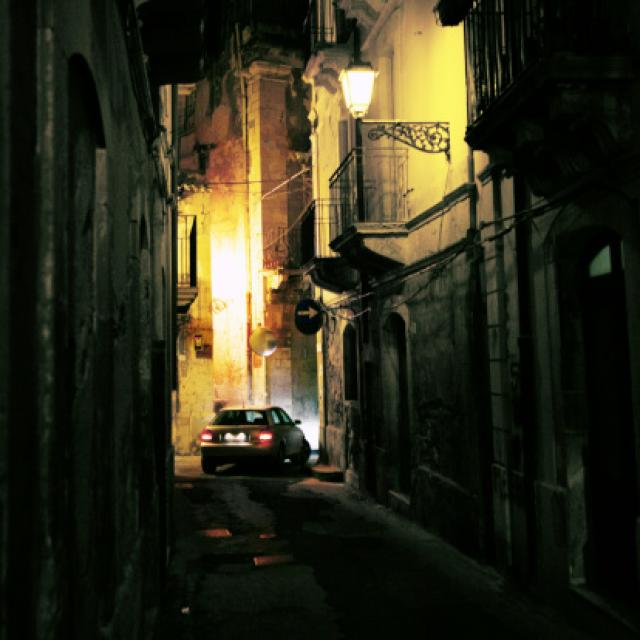Car: (200, 392, 316, 486)
